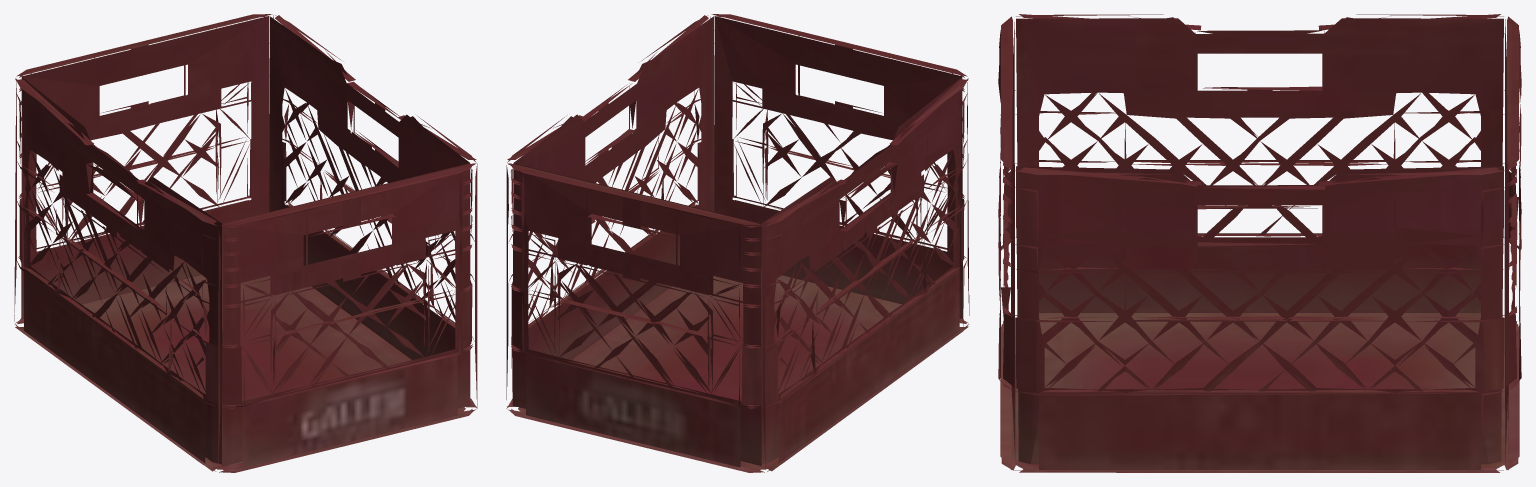
File: plastic_crate.glb
3 renders of one model, left to right at view 1: azimuth 30°, elevation 25°; view 2: azimuth 150°, elevation 25°; view 3: azimuth 270°, elevation 25°, orthographic. The views are drawn at different scales.
Parts seen in each view (by area): view 1: plastic_crate_01; view 2: plastic_crate_01; view 3: plastic_crate_01.
Part boxes in pixels (box(x1,y1,x2,y2)): plastic_crate_01: box(14, 14, 477, 472); plastic_crate_01: box(506, 14, 969, 472); plastic_crate_01: box(998, 14, 1521, 472).
Bounding box in the file's own units: 0.2992 × 0.2642 × 0.4122.
1 material, 1 textured.
